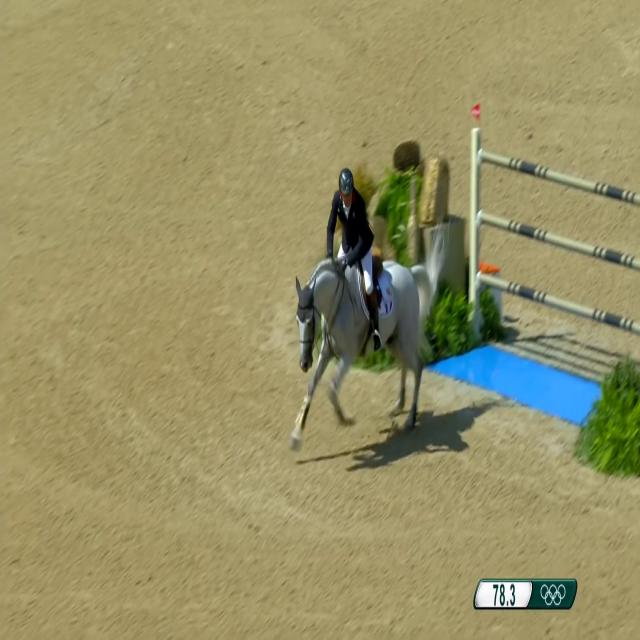Horse Rider: (322, 147, 397, 393)
Horse Running: (290, 208, 435, 458)
